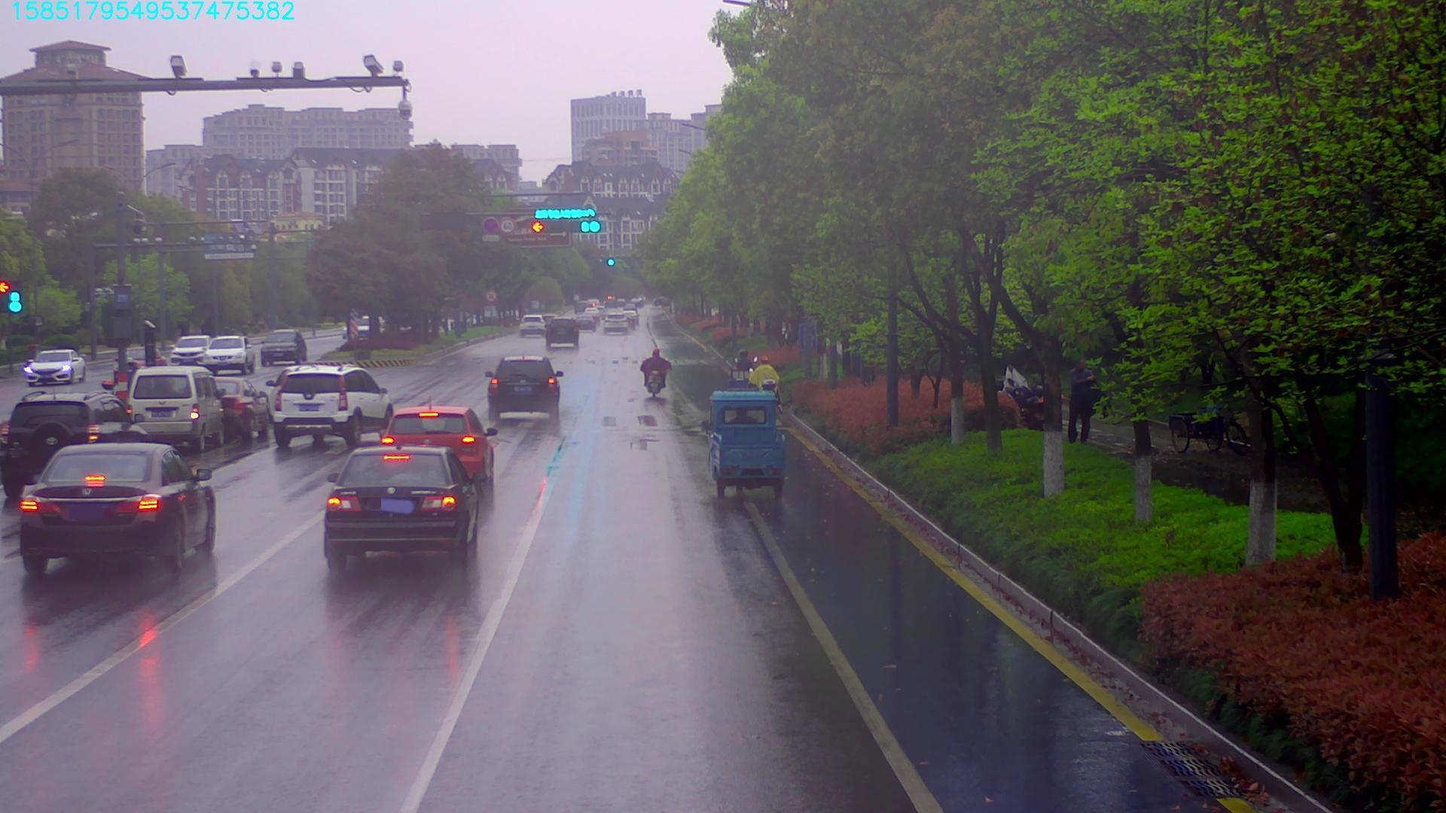green: (569, 220, 602, 233)
red: (531, 219, 560, 236)
wait_on: (533, 207, 592, 217)
